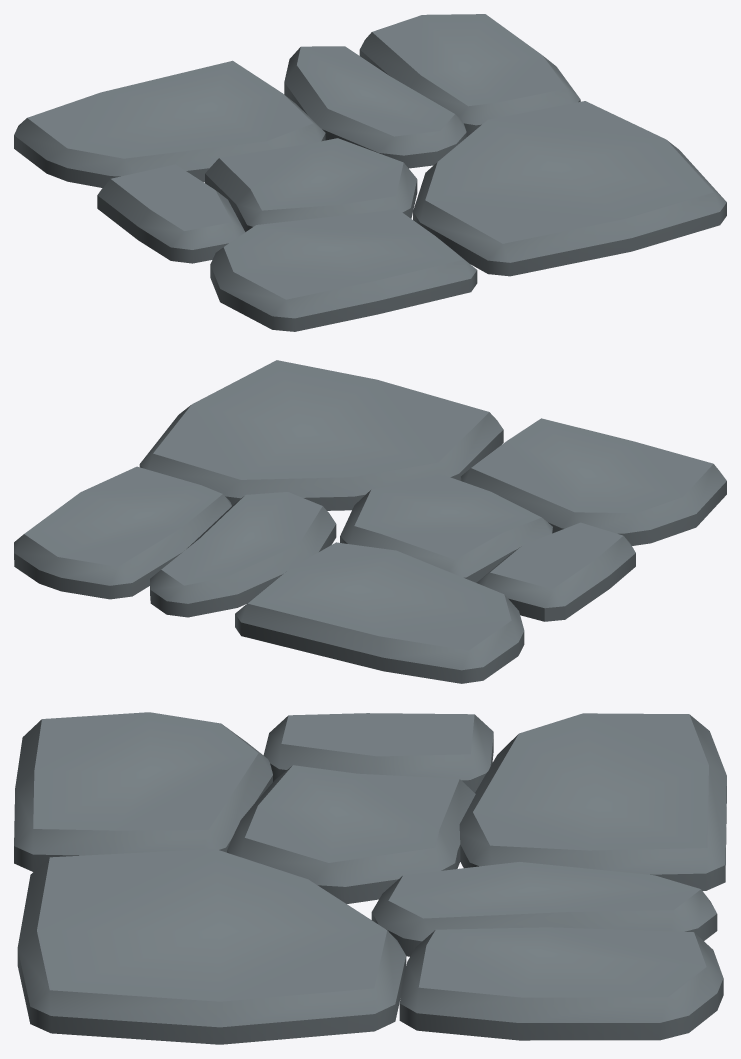
The model's file is path_B.glb.
3 views of the same model, one above another, from view 1: azimuth 30°, elevation 25°; view 2: azimuth 150°, elevation 25°; view 3: azimuth 270°, elevation 25° (orthographic). The views are drawn at different scales.
Parts seen in each view (by area): view 1: path_B; view 2: path_B; view 3: path_B.
Boxes of the visible parts, left/top/right/bottom form: path_B: left=14, top=14, right=726, bottom=331; path_B: left=14, top=360, right=726, bottom=683; path_B: left=14, top=712, right=726, bottom=1044.
Size of the model in its own units: 1.89 by 0.1 by 1.86.
1 material, 1 textured.
